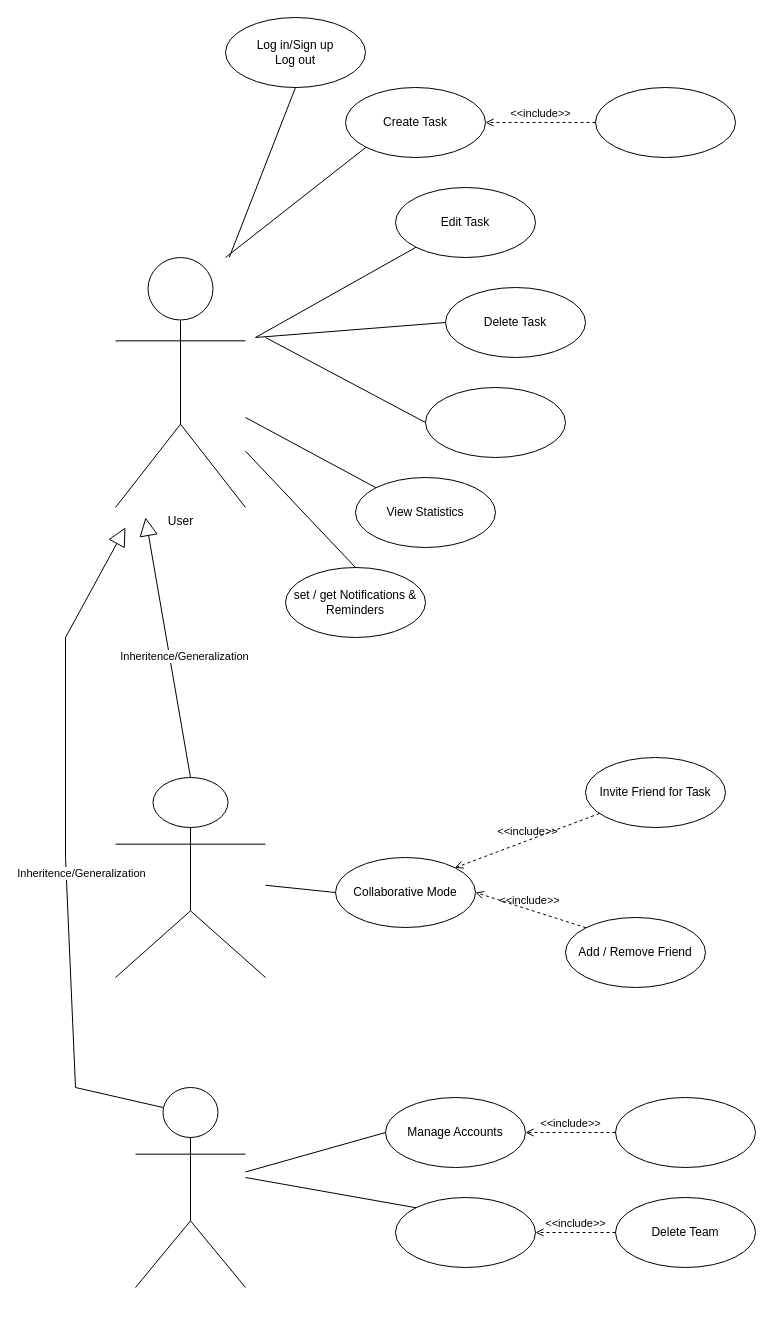
Image size: 773x1326. Some labels were removed from this diagram. Here are the shapes that lost their labels. From the top down, the box of each, then its label:
(594, 86, 736, 158): Notification
(424, 386, 566, 458): Manage Account & Preferences
(114, 776, 266, 978): Team Member
(614, 1096, 756, 1168): Ban / Restrict User
(134, 1086, 246, 1288): Administrator
(394, 1196, 536, 1268): Manage Teams
